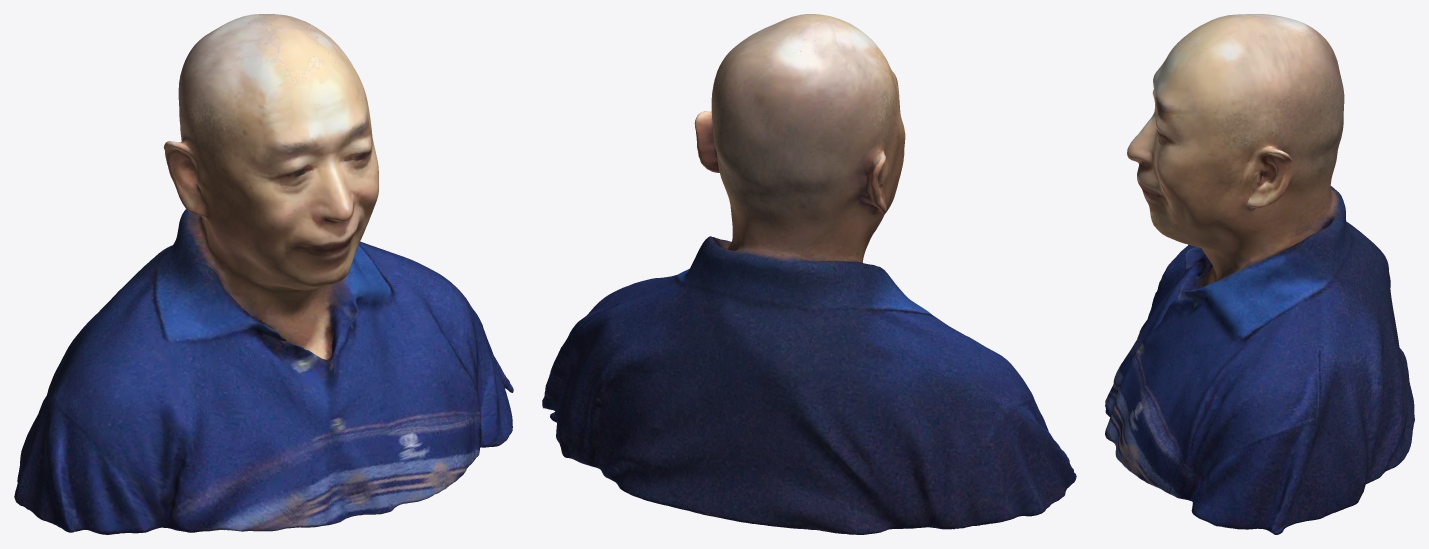
File: 石膏头像_男老年_胸像01_opt.glb
3 renders of one model, left to right at view 1: azimuth 30°, elevation 25°; view 2: azimuth 150°, elevation 25°; view 3: azimuth 270°, elevation 25°, orthographic. The views are drawn at different scales.
Parts seen in each view (by area): view 1: material_0, material_0_1; view 2: material_0, material_0_1; view 3: material_0, material_0_1.
Part boxes in pixels (<box>): material_0: <box>14,14,513,534</box>; material_0_1: <box>17,14,512,534</box>; material_0: <box>542,14,1076,534</box>; material_0_1: <box>542,15,1076,534</box>; material_0: <box>1105,14,1414,534</box>; material_0_1: <box>1105,14,1414,534</box>.
Size of the model in its own units: 0.3501 by 0.3 by 0.2052.
1 material, 1 textured.
